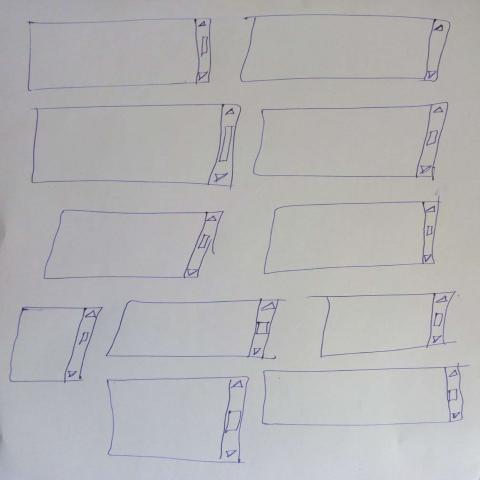Textarea: (32, 104, 242, 192), (254, 103, 449, 182), (235, 15, 451, 83), (264, 194, 444, 275), (28, 19, 212, 92), (263, 364, 471, 427), (44, 210, 225, 280), (108, 377, 250, 464), (106, 299, 287, 361), (306, 292, 457, 358), (10, 307, 104, 384)
